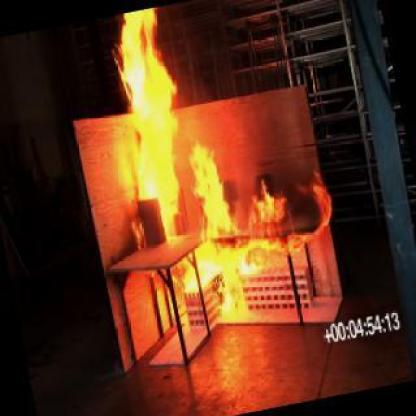Fire: (190, 153, 282, 327), (112, 0, 178, 215)
